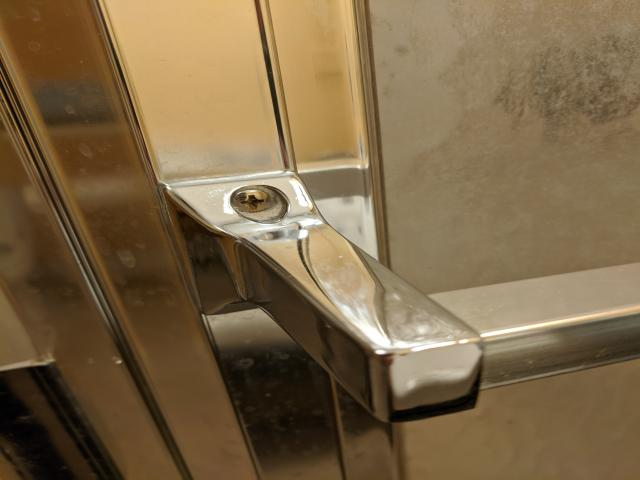CRS: (231, 190, 280, 214)
